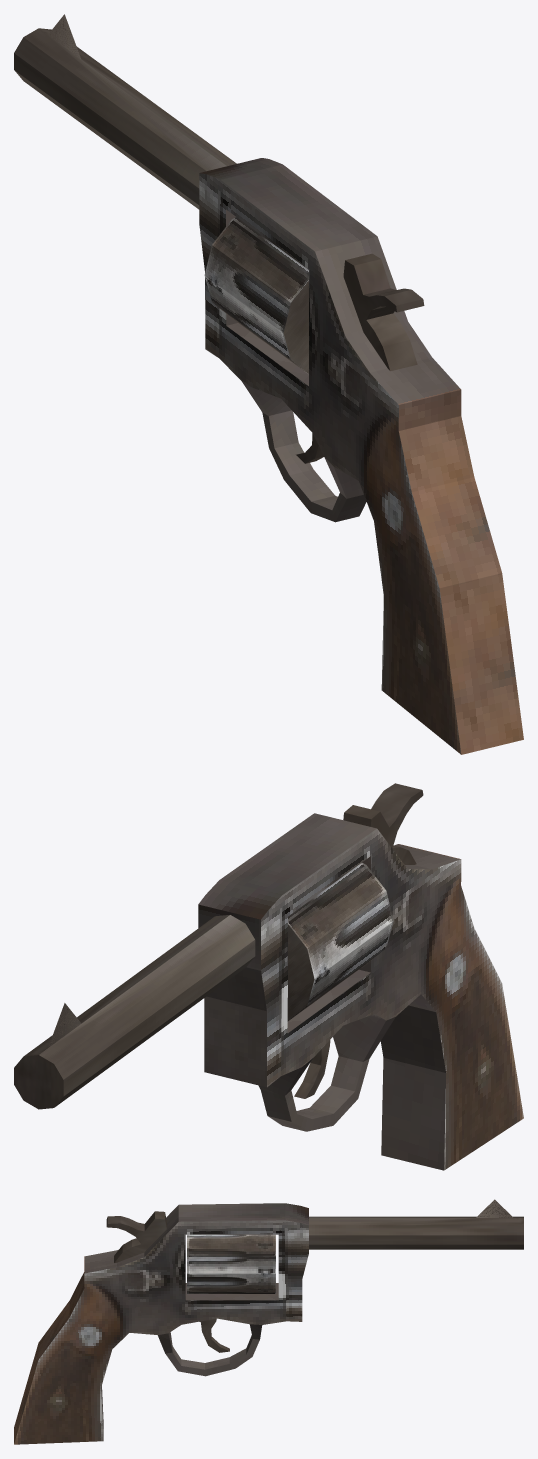
The model's file is revolver.glb.
3 views of the same model, one above another, from view 1: azimuth 30°, elevation 25°; view 2: azimuth 150°, elevation 25°; view 3: azimuth 270°, elevation 25° (orthographic). The views are drawn at different scales.
Visible parts, largest first — view 1: frame, barrel, Cylinder for bullets, hammer; view 2: frame, barrel, Cylinder for bullets, hammer, trigger; view 3: frame, barrel, Cylinder for bullets, hammer, trigger.
Part boxes in pixels (box(x1,y1,x2,y2)): frame: box(199, 158, 523, 754); barrel: box(14, 14, 236, 209); Cylinder for bullets: box(204, 217, 308, 374); hammer: box(343, 253, 424, 371); frame: box(198, 813, 523, 1170); barrel: box(14, 915, 255, 1109); Cylinder for bullets: box(287, 863, 393, 1021); hammer: box(343, 783, 423, 864); trigger: box(294, 1040, 330, 1098); frame: box(14, 1203, 308, 1444); barrel: box(309, 1199, 523, 1249); Cylinder for bullets: box(187, 1234, 275, 1293); hammer: box(106, 1211, 166, 1262); trigger: box(199, 1318, 229, 1352).
Size of the model in its own units: 0.6386 by 2.35 by 4.6.
5 materials, 5 textured.
